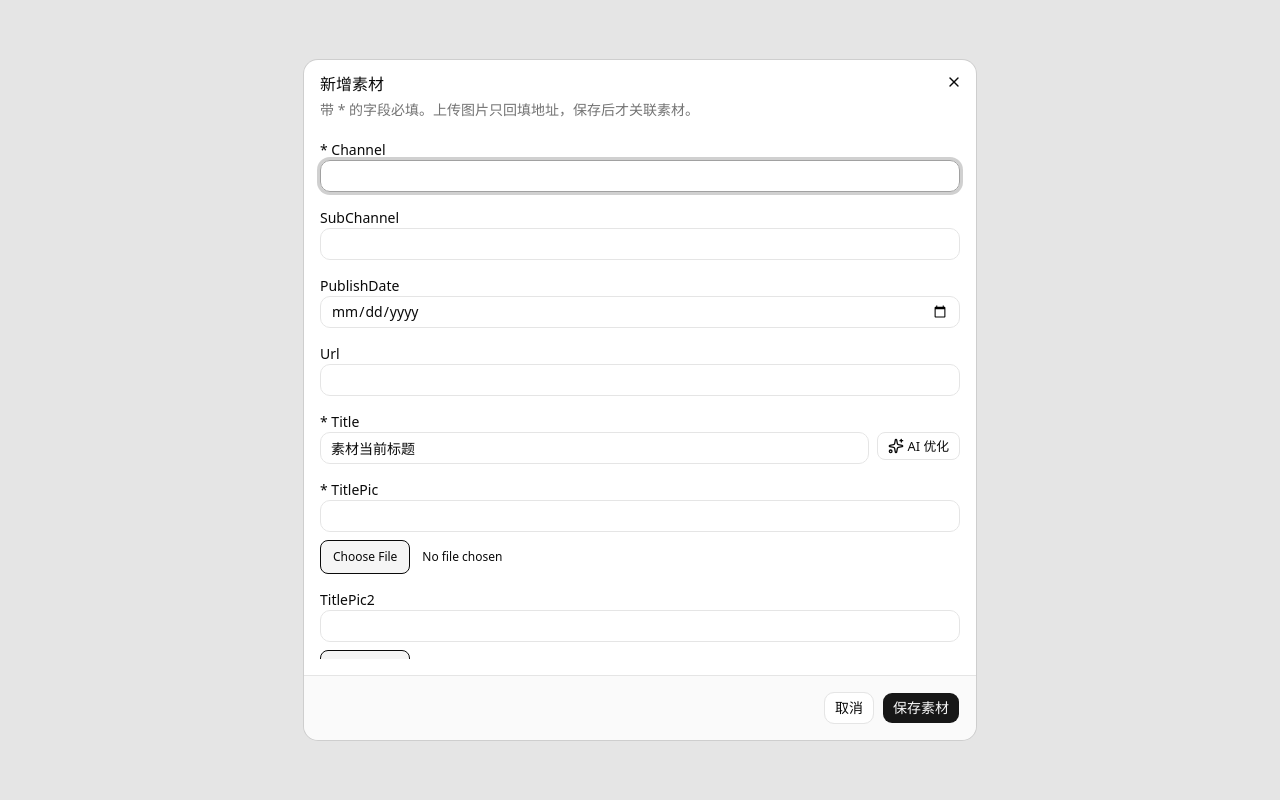
Scenario: 渠道素材使用当前 Title 和 SmallText，采用不保存素材
Click the button "AI 优化". click: (918, 446)
box: [877,432,960,460]
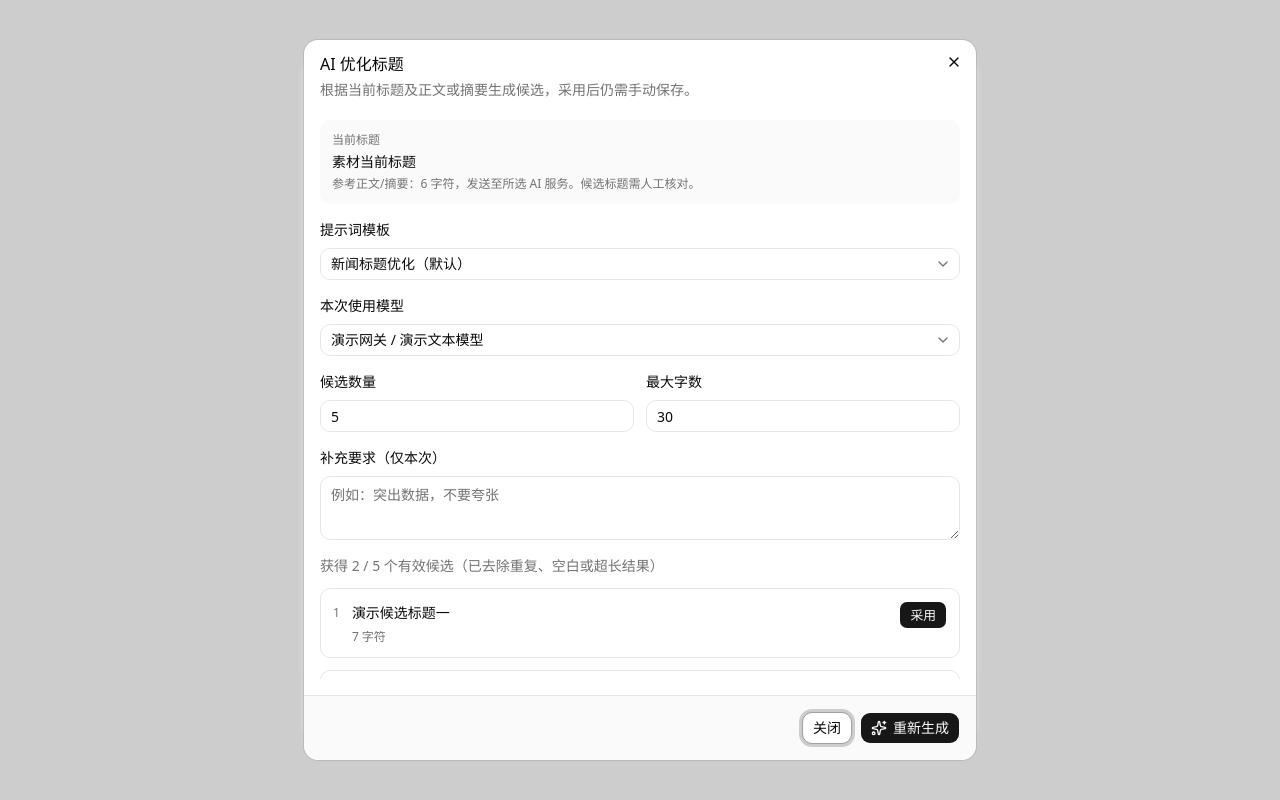
Expected: the text "演示候选标题一" is shown, [352,603,450,622]
Click the button "采用". click: (923, 615)
box: [899,601,947,629]
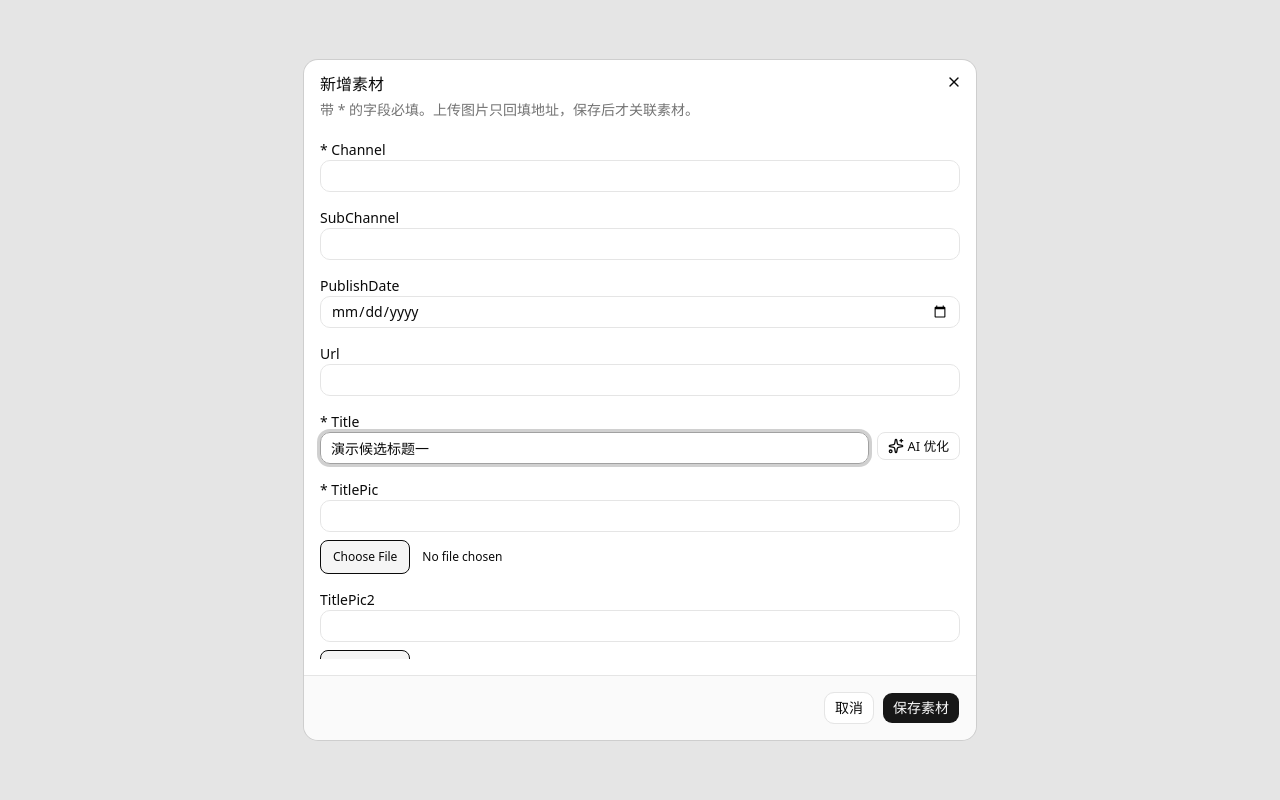
Expected: the field labelled "* Title" holds "演示候选标题一", [320,432,869,464]
